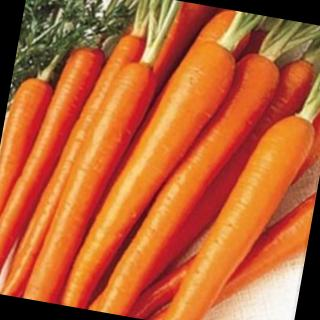Wortel: (59, 23, 242, 320), (23, 50, 160, 316), (164, 100, 320, 320)
